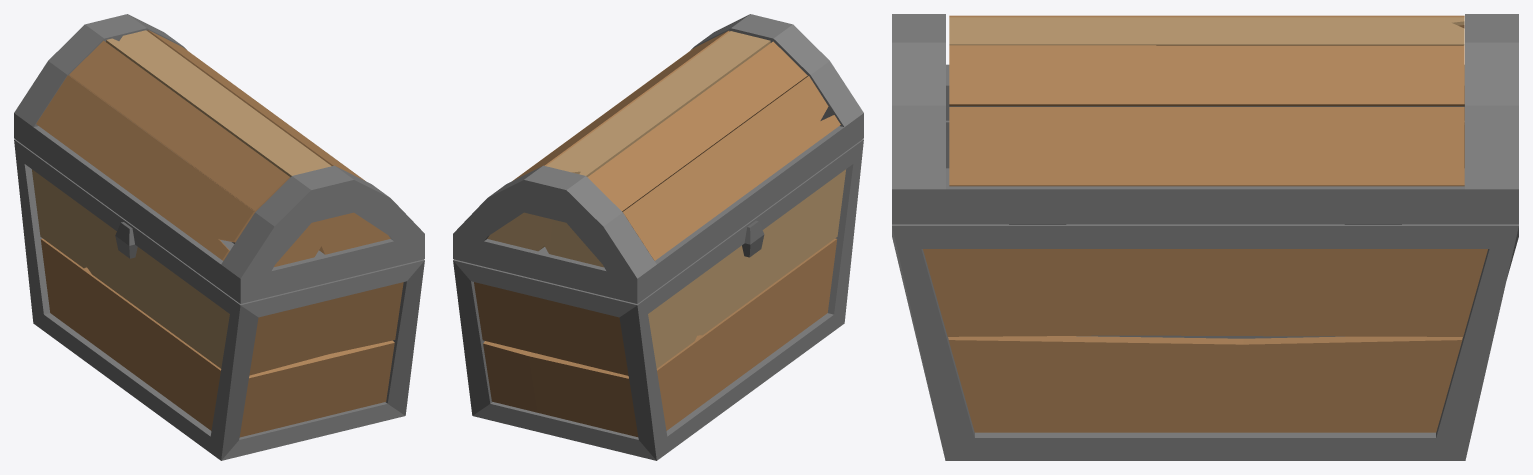
File: chest.fbx
3 views of the same model, side by side, from view 1: azimuth 30°, elevation 25°; view 2: azimuth 150°, elevation 25°; view 3: azimuth 270°, elevation 25° (orthographic). The views are drawn at different scales.
Parts seen in each view (by area): view 1: chest_bottom, chest_top; view 2: chest_bottom, chest_top; view 3: chest_bottom, chest_top.
Part boxes in pixels (box(x1,y1,x2,y2)): chest_bottom: box(14, 139, 424, 460); chest_top: box(14, 14, 424, 303); chest_bottom: box(453, 139, 863, 460); chest_top: box(453, 14, 863, 303); chest_bottom: box(892, 120, 1518, 460); chest_top: box(892, 14, 1518, 224).
Bounding box in the file's own units: 72.71 × 97.71 × 150.
